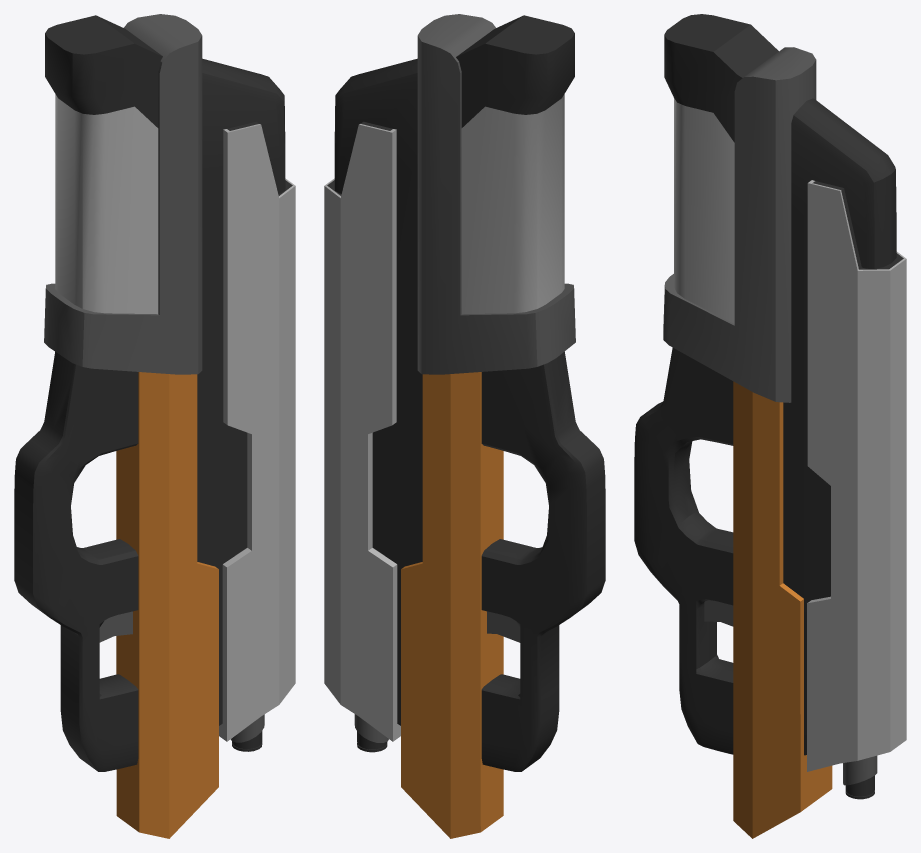
3 views of the same model, side by side, from view 1: azimuth 30°, elevation 25°; view 2: azimuth 150°, elevation 25°; view 3: azimuth 330°, elevation 25° (orthographic). The views are drawn at different scales.
Visible parts, largest first — view 1: WeaponMesh_qg-ar-5_AR_5; view 2: WeaponMesh_qg-ar-5_AR_5; view 3: WeaponMesh_qg-ar-5_AR_5.
Boxes of the visible parts, x1,y1,x2,y2 form: WeaponMesh_qg-ar-5_AR_5: (14, 14, 295, 838); WeaponMesh_qg-ar-5_AR_5: (324, 14, 605, 838); WeaponMesh_qg-ar-5_AR_5: (634, 14, 906, 838).
Size of the model in its own units: 0.4274 by 1.25 by 0.1175.
